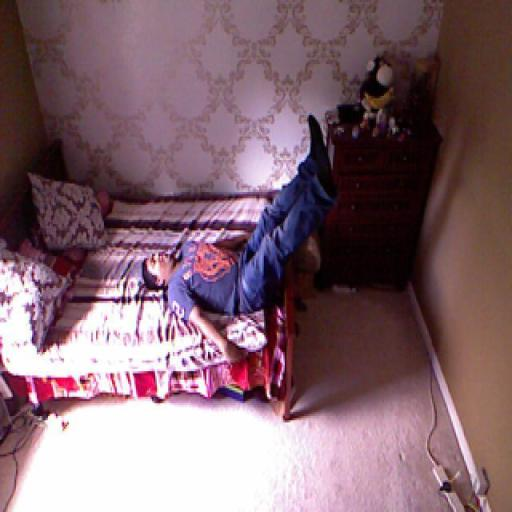Fall: (141, 113, 334, 367)
